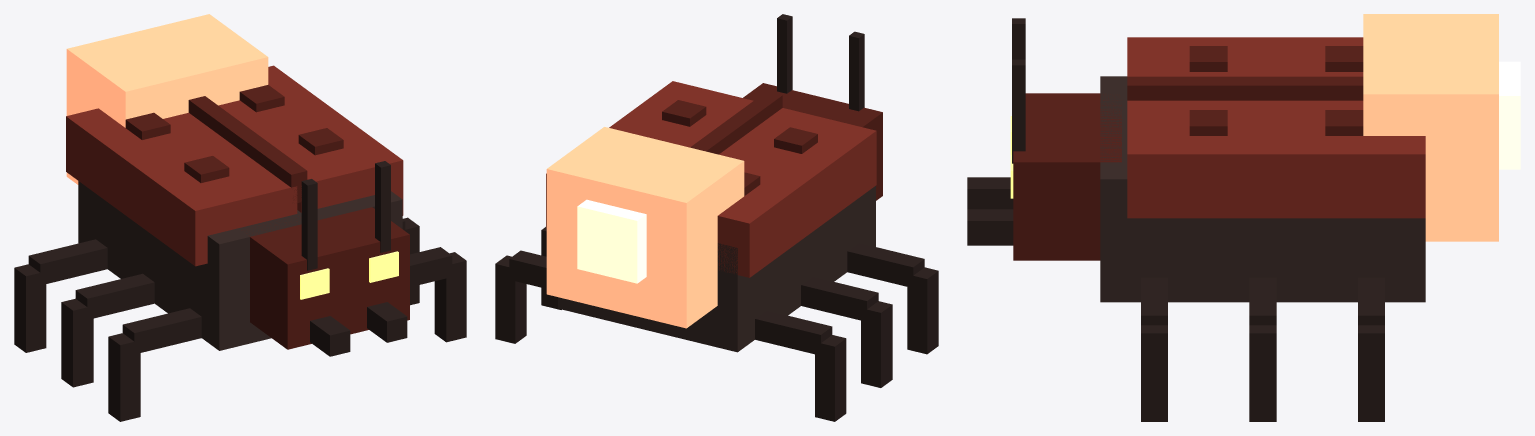
Rendered from monster-bomber.glb.
3 renders of one model, left to right at view 1: azimuth 30°, elevation 25°; view 2: azimuth 150°, elevation 25°; view 3: azimuth 270°, elevation 25°, orthographic. The views are drawn at different scales.
Visible parts, largest first — view 1: body_shell_r, glow_sac, body, head, body_shell_l, body_shell_ridge, leg_r0_foot, leg_r1_foot, leg_r2_foot, leg_l0_foot, leg_r1, leg_r2 (+13 smaller); view 2: glow_sac, body_shell_r, body, glow_sac_core, body_shell_l, head, leg_r0_foot, leg_r2_foot, leg_r1_foot, leg_l2_foot, leg_r1, leg_r2 (+8 smaller); view 3: body_shell_l, body, glow_sac, head, body_shell_r, body_shell_ridge, leg_l1_foot, leg_l0_foot, leg_l2_foot, glow_sac_core, mouth_jaw_l, mouth_jaw_r (+9 smaller).
Boxes of the visible parts, x1,y1,x2,y2 form: body_shell_r: (66, 108, 297, 266); glow_sac: (66, 14, 268, 184); body: (78, 181, 402, 350); head: (241, 207, 409, 349); body_shell_l: (218, 65, 403, 215); body_shell_ridge: (188, 96, 307, 202); leg_r0_foot: (108, 333, 140, 421); leg_r1_foot: (61, 298, 93, 387); leg_r2_foot: (14, 264, 46, 352); leg_l0_foot: (434, 252, 466, 342); leg_r1: (75, 273, 154, 319); leg_r2: (28, 239, 107, 285); glow_sac: (546, 127, 744, 328); body_shell_r: (717, 108, 876, 277); body: (558, 186, 875, 352); glow_sac_core: (577, 199, 646, 283); body_shell_l: (546, 81, 753, 228); head: (743, 83, 882, 200); leg_r0_foot: (907, 267, 938, 354); leg_r2_foot: (815, 335, 846, 421); leg_r1_foot: (861, 301, 892, 387); leg_l2_foot: (495, 255, 526, 343); leg_r1: (801, 276, 878, 321); leg_r2: (755, 310, 832, 355); body_shell_l: (1127, 100, 1425, 218); body: (1100, 76, 1425, 302); glow_sac: (1363, 14, 1498, 241); head: (1013, 93, 1121, 260); body_shell_r: (1127, 37, 1363, 76); body_shell_ridge: (1127, 76, 1363, 100); leg_l1_foot: (1249, 325, 1276, 421); leg_l0_foot: (1141, 325, 1167, 421); leg_l2_foot: (1358, 325, 1384, 421); glow_sac_core: (1499, 61, 1520, 169); mouth_jaw_l: (967, 209, 1013, 245); mouth_jaw_r: (967, 177, 1013, 209).
Bounding box in the file's own units: 1.7 × 1.15 × 2.04.
